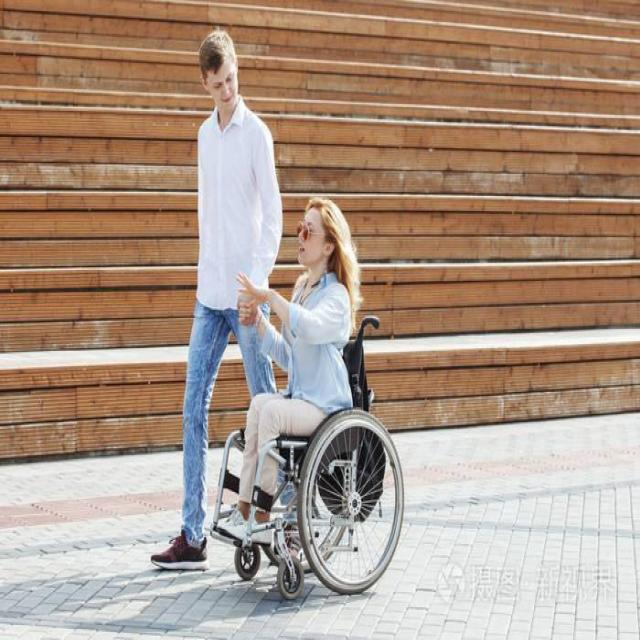wheelchairs: (210, 306, 409, 604)
